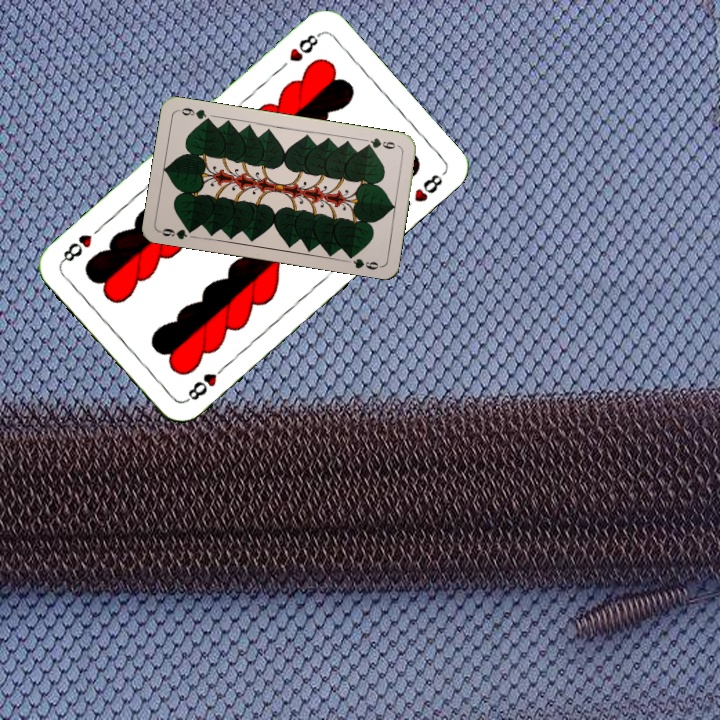G9: (156, 223, 198, 242), (360, 134, 402, 152)
H8: (181, 360, 230, 405), (285, 29, 323, 64)
